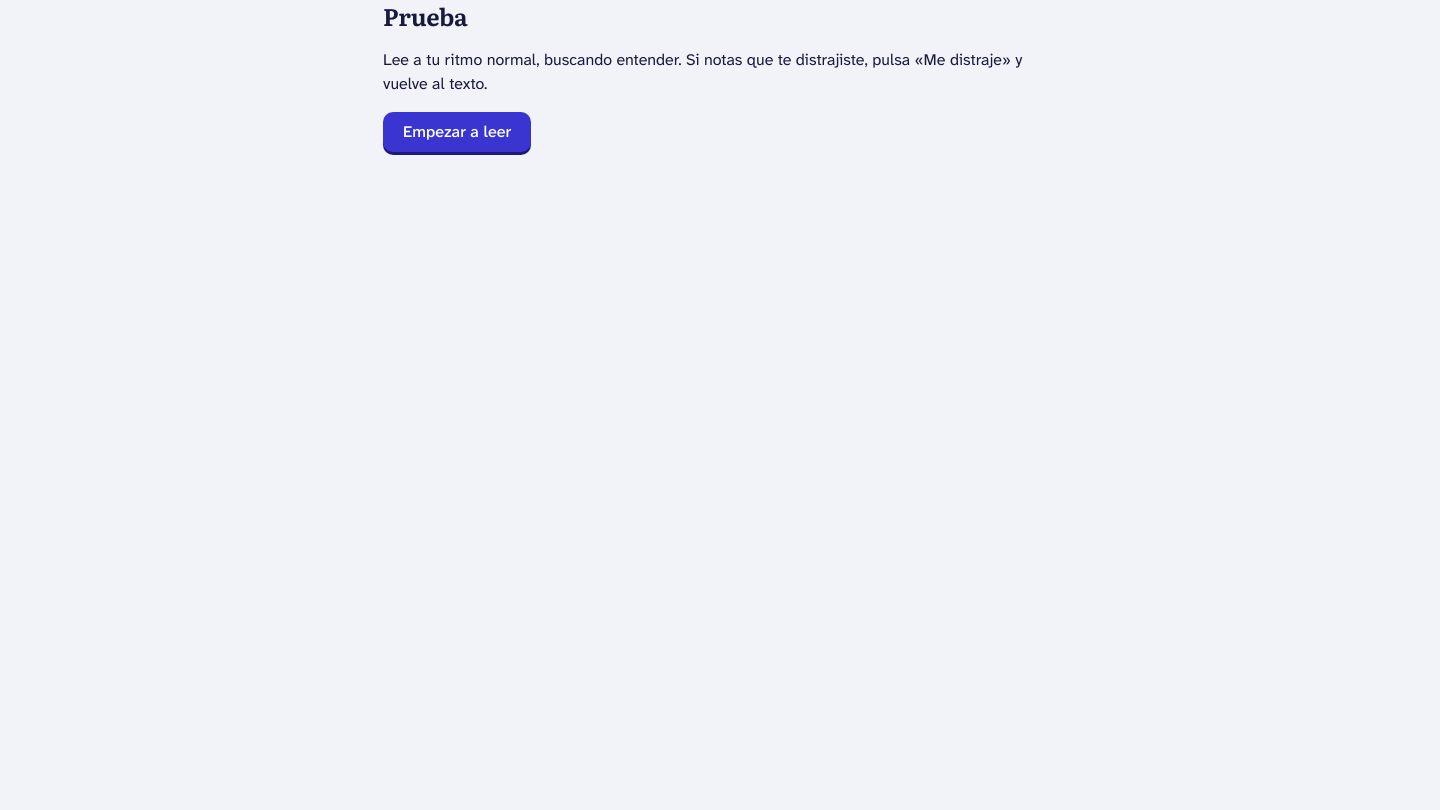
ReadingView › al volver a la pestaña el sondeo usa el tiempo restante
What coordinates should you click on to do the following:
click the button "Empezar a leer"
I would click on:
 (457, 132)
Its box is [383,112,531,152].
Wait 145000 ms
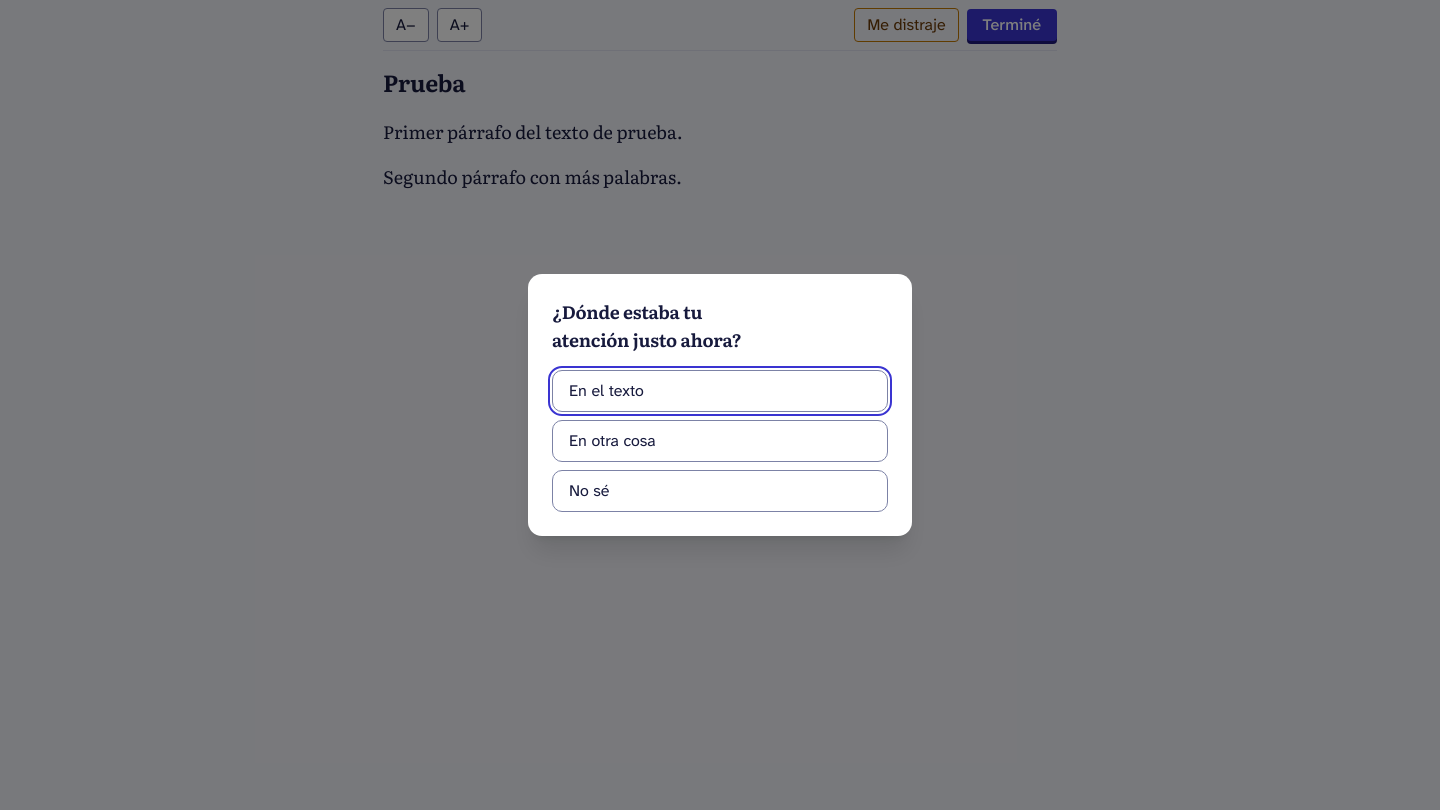
expect the dialog is shown: met, box [528,274,912,536]
